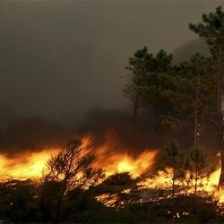fire: (1, 121, 224, 208)
smoke: (9, 1, 126, 97)
